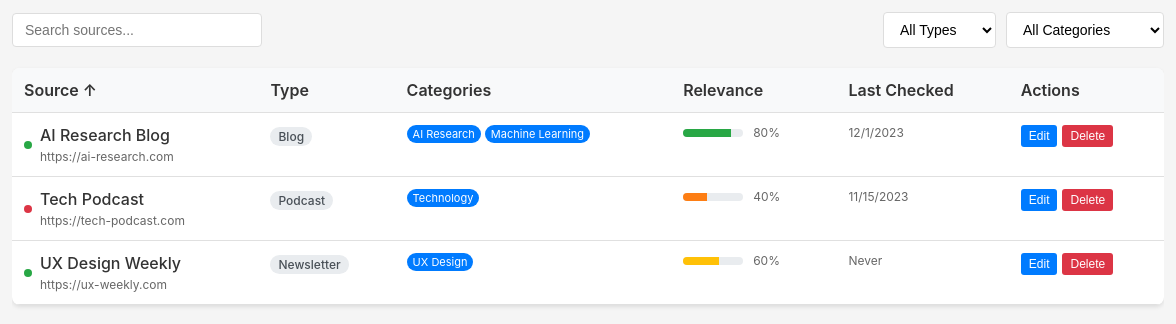
Test case: SourceList › filters sources by search term
Type "AI" into the field with placeholder "Search sources...".
click(137, 30); type("AI")  # box [12, 13, 262, 47]
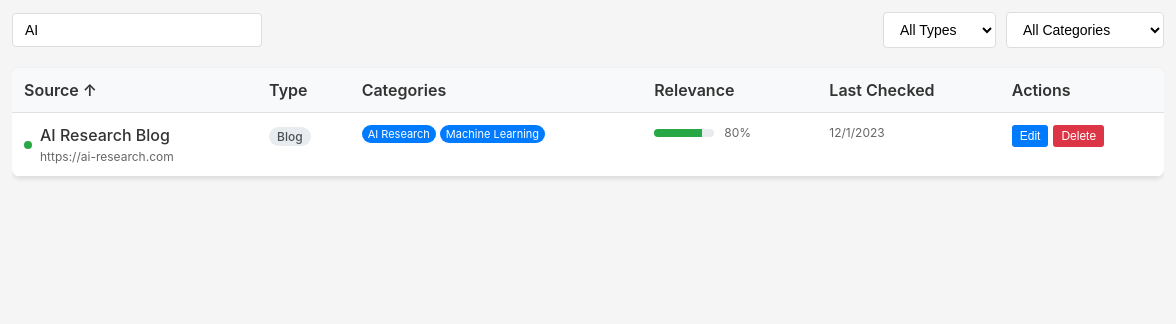
Check: the text "AI Research Blog" is shown, box [40, 125, 174, 145]
Check: the text "UX Design Weekly" is gone
Check: the text "Tech Podcast" is gone
